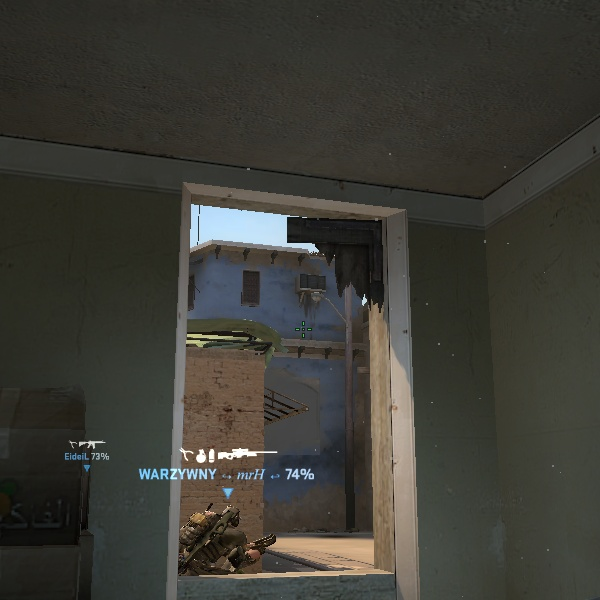ct_body: (179, 497, 275, 573)
ct_head: (219, 502, 249, 533)
